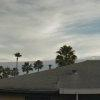Palm tree: (10, 39, 46, 74)
